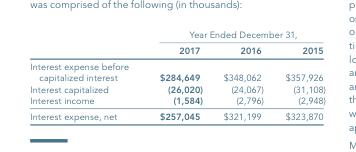table: (29, 28, 324, 121)
table column: (29, 28, 143, 121), (143, 28, 212, 121), (212, 28, 273, 121), (273, 28, 324, 121)
table column header: (29, 28, 324, 57)
table row: (29, 57, 324, 82), (29, 42, 324, 57), (29, 28, 324, 42), (29, 107, 324, 121), (29, 94, 324, 107), (29, 82, 324, 94)
table spanning cell: (143, 28, 324, 42)
